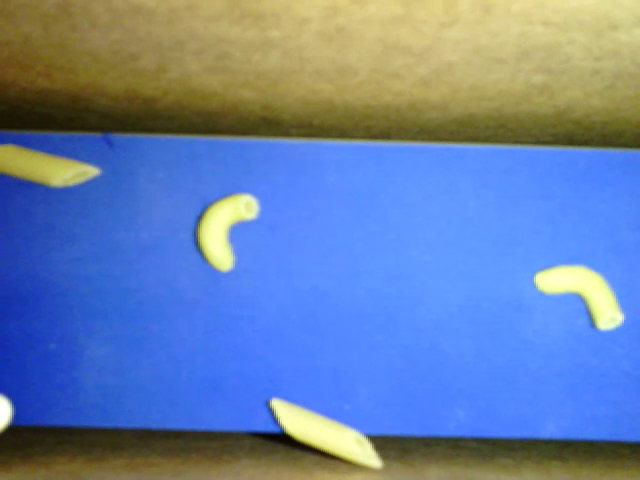elbow: (533, 264, 624, 331), (196, 193, 258, 272)
penne: (269, 397, 383, 470), (1, 143, 102, 190)
